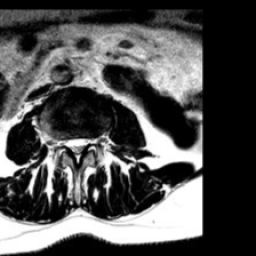CCS_normal: (72, 128, 80, 167)
LFS_stenosis: (88, 128, 96, 152)
LLS_normal: (80, 128, 88, 157)
RFS_normal: (55, 127, 64, 155)
RLS_normal: (64, 129, 72, 157)
